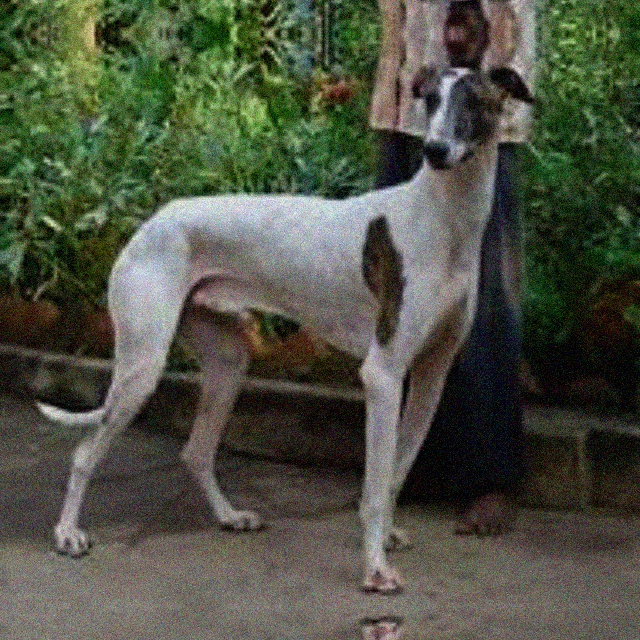dog: (41, 68, 513, 568)
